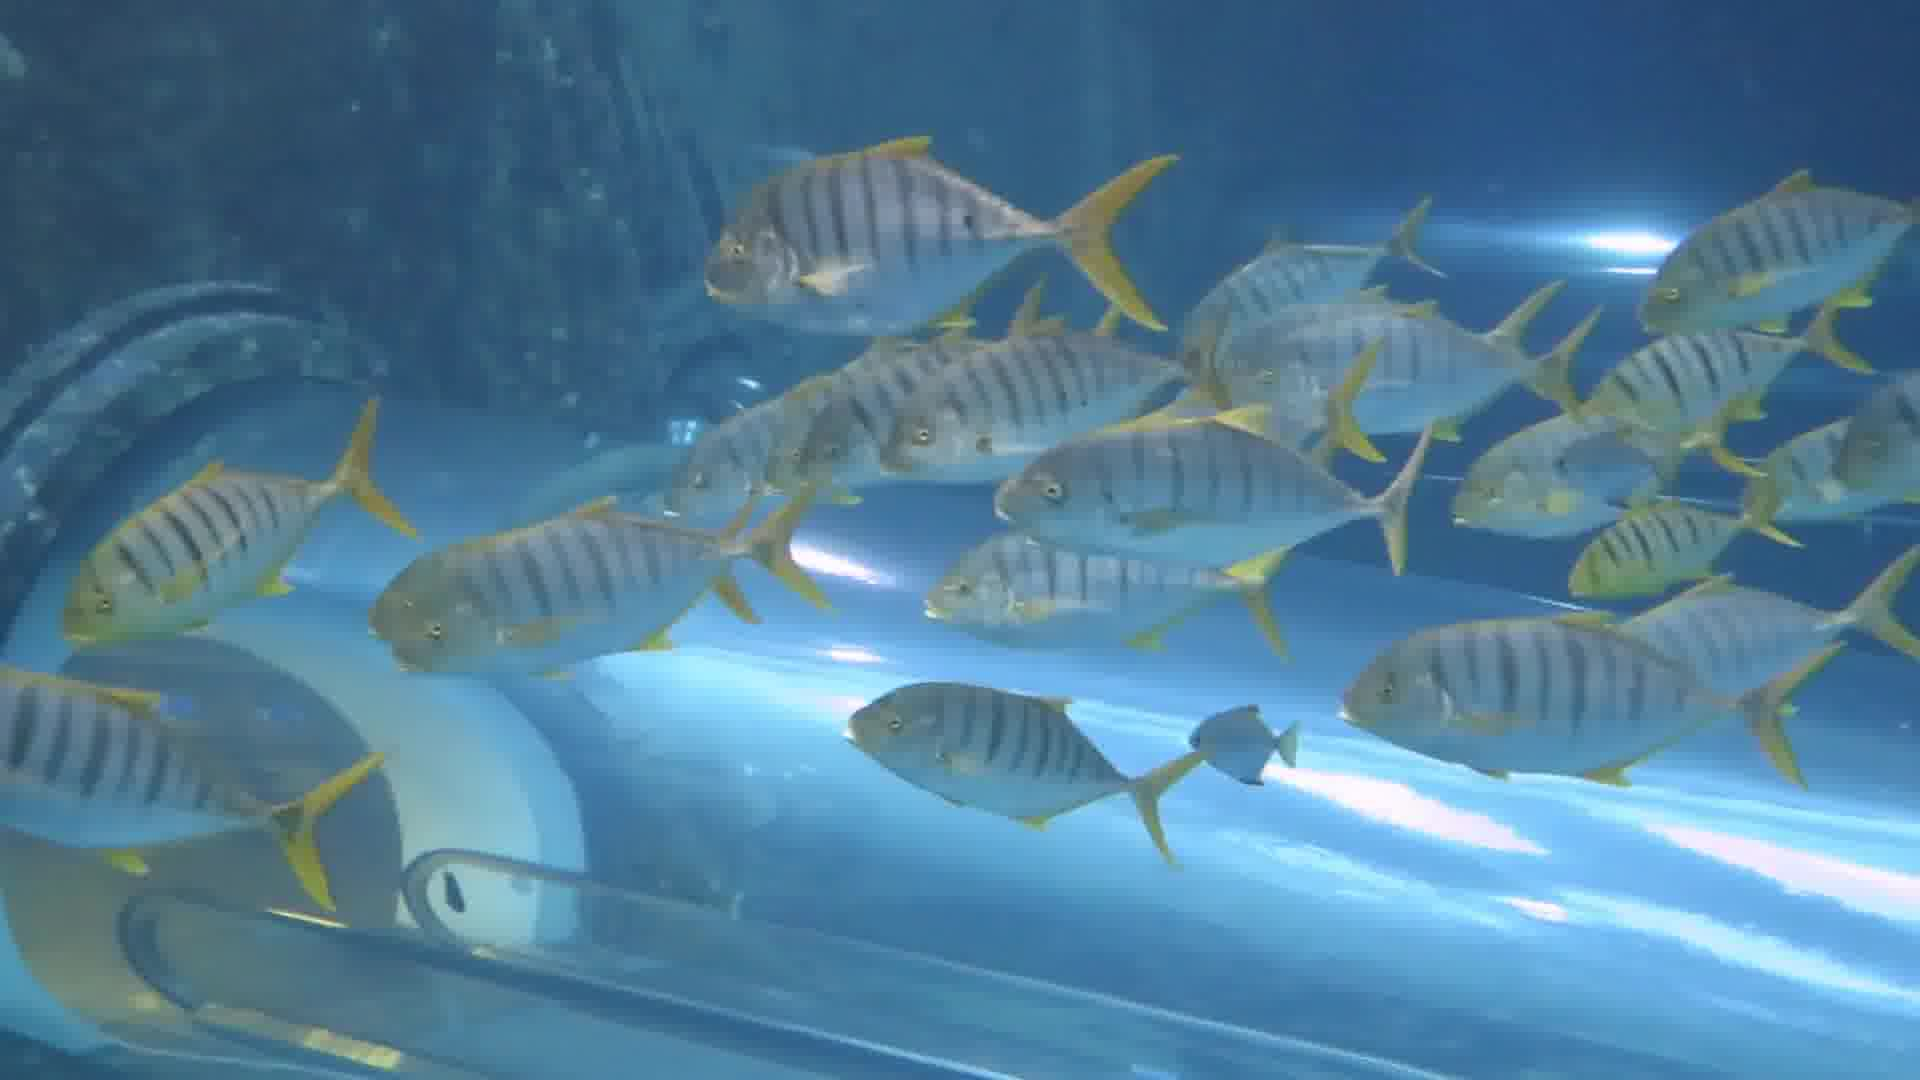Gnathanodon speciosus: (1309, 572, 1791, 775), (678, 156, 1200, 339), (385, 477, 808, 678), (75, 402, 388, 651), (833, 661, 1187, 861), (862, 326, 1200, 477), (986, 435, 1402, 554), (1236, 287, 1596, 419), (1635, 174, 1911, 345), (916, 525, 1287, 641), (1435, 393, 1692, 549)
